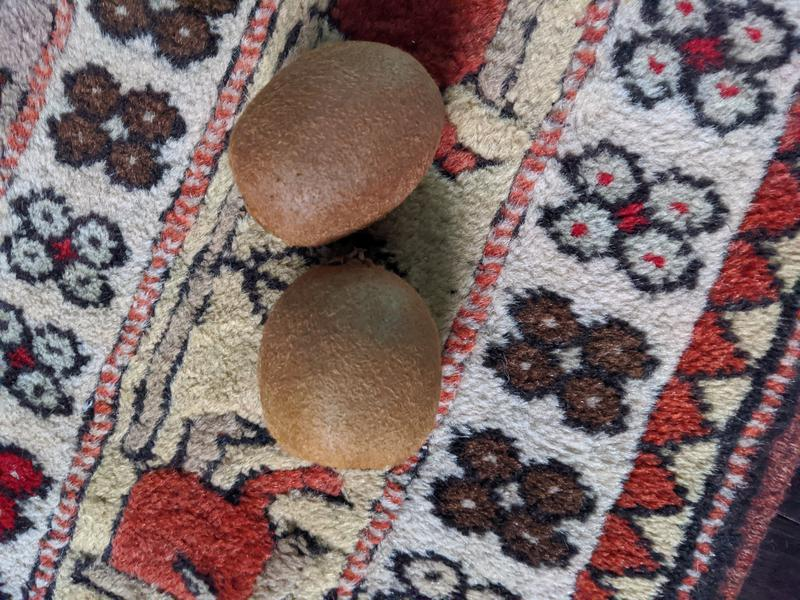kiwi: (227, 41, 447, 247), (258, 262, 442, 469)
